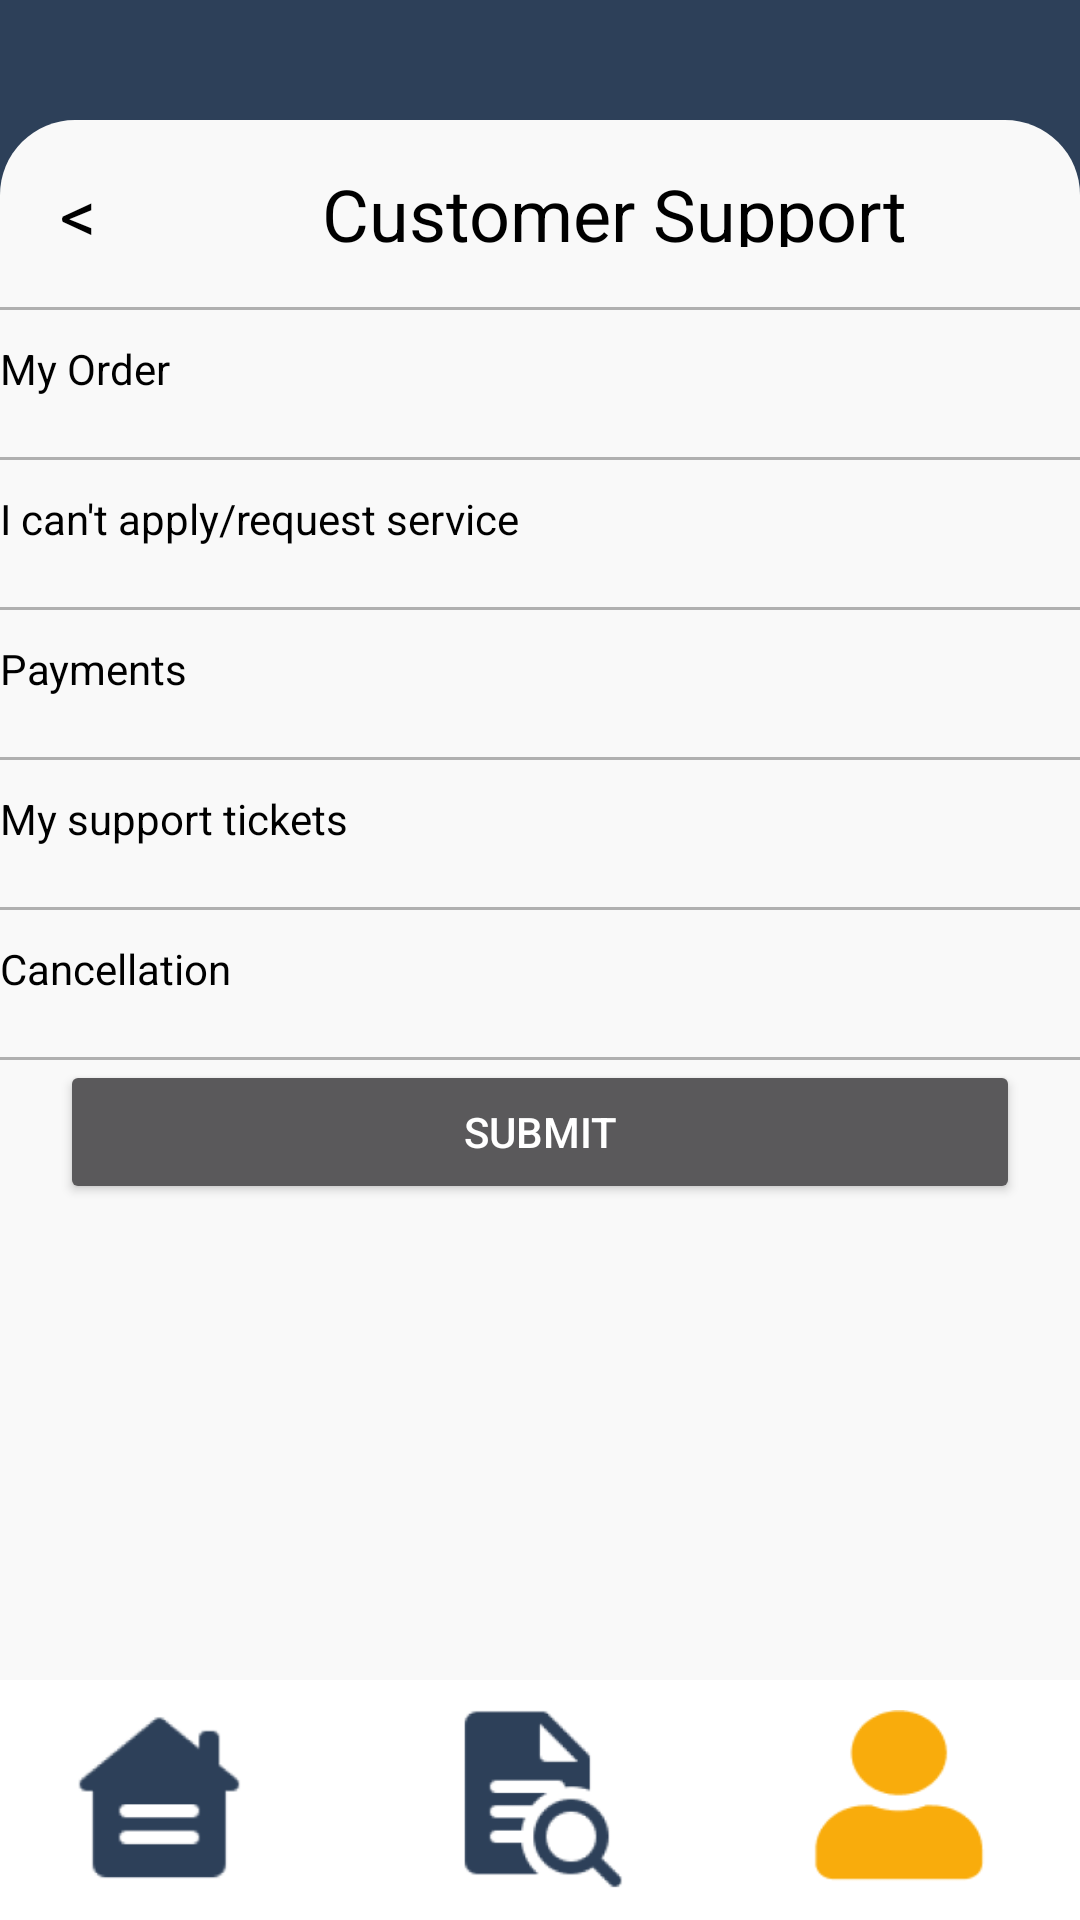

Where icons sit on this 1080×1920 app screen, as (x1, y1, x2, y2):
activity: (464, 1711, 622, 1887)
home: (79, 1717, 240, 1878)
profile: (815, 1710, 983, 1880)
